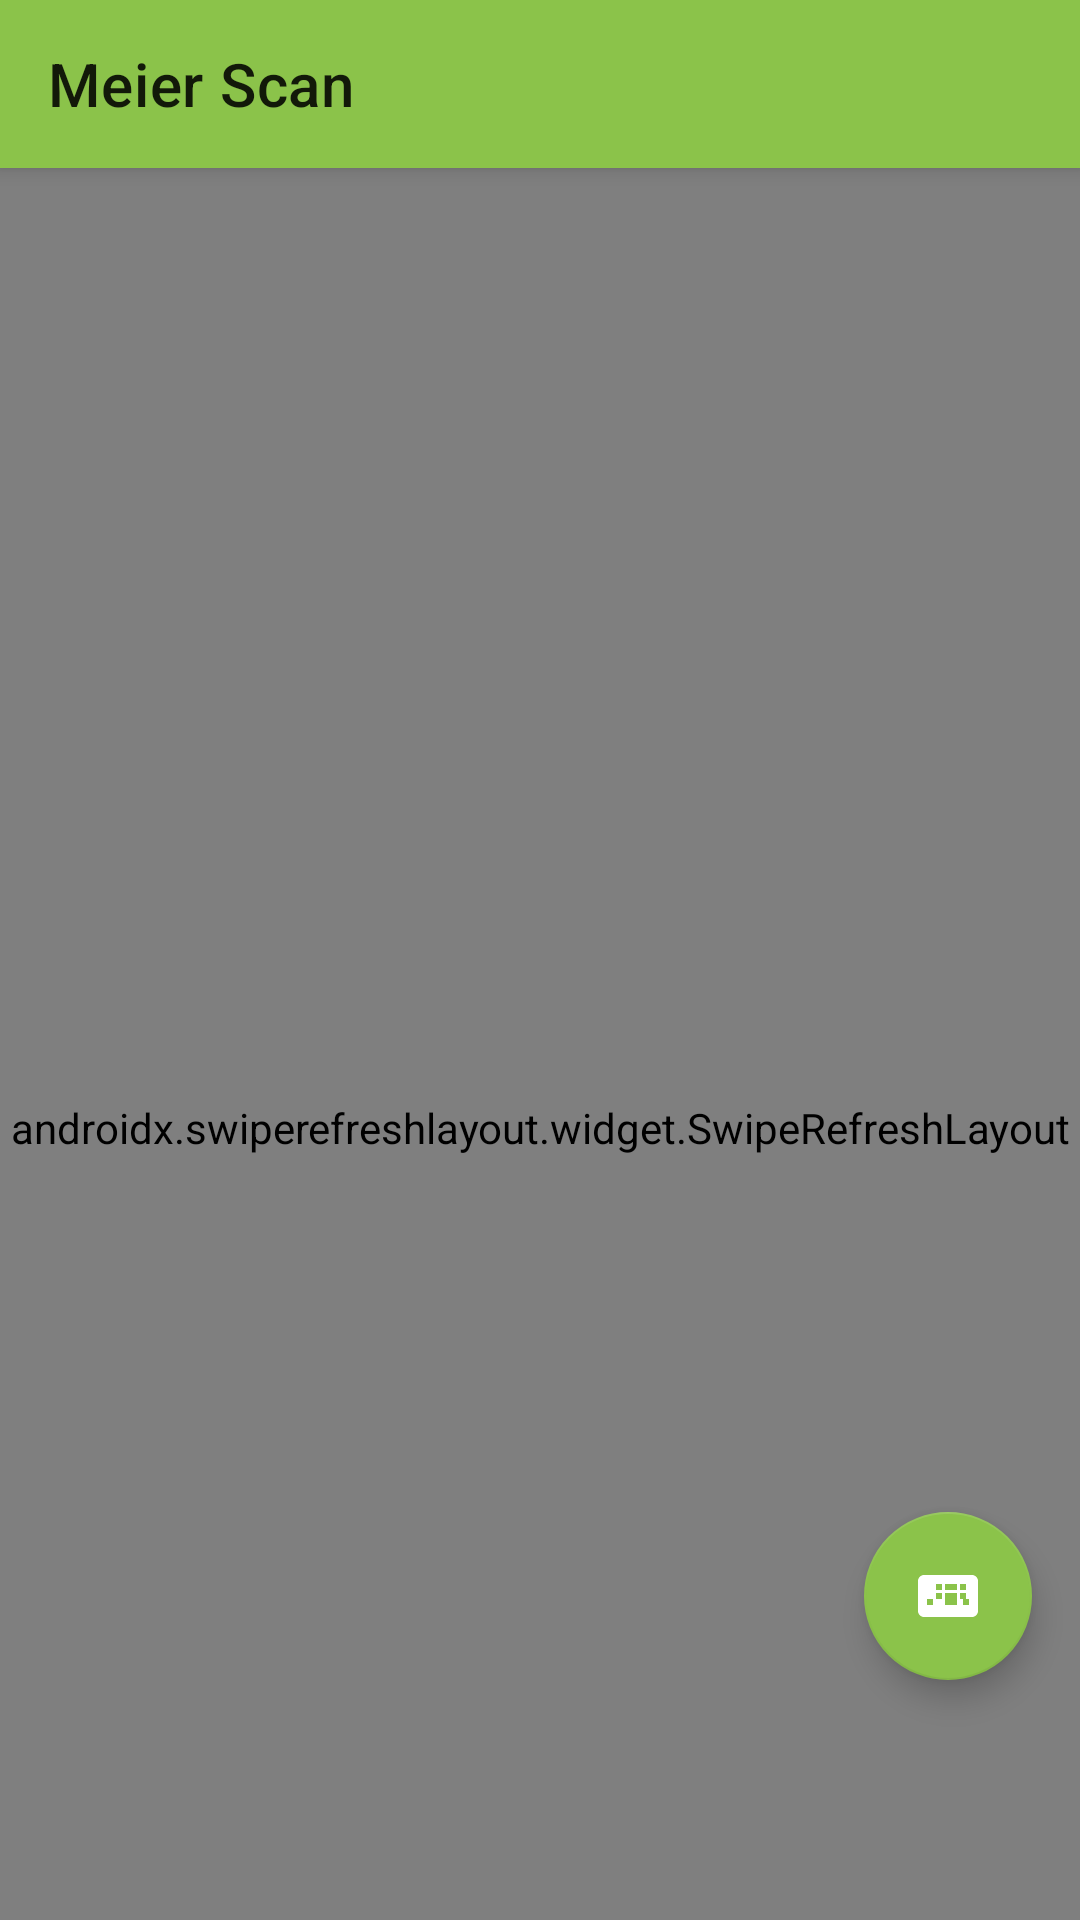

Locate icon controls on the screen. Image size 1080px x 1920px, boxes as rect(x1, y1, x2, y2).
Tastatur anzeigen: rect(864, 1512, 1032, 1680)
